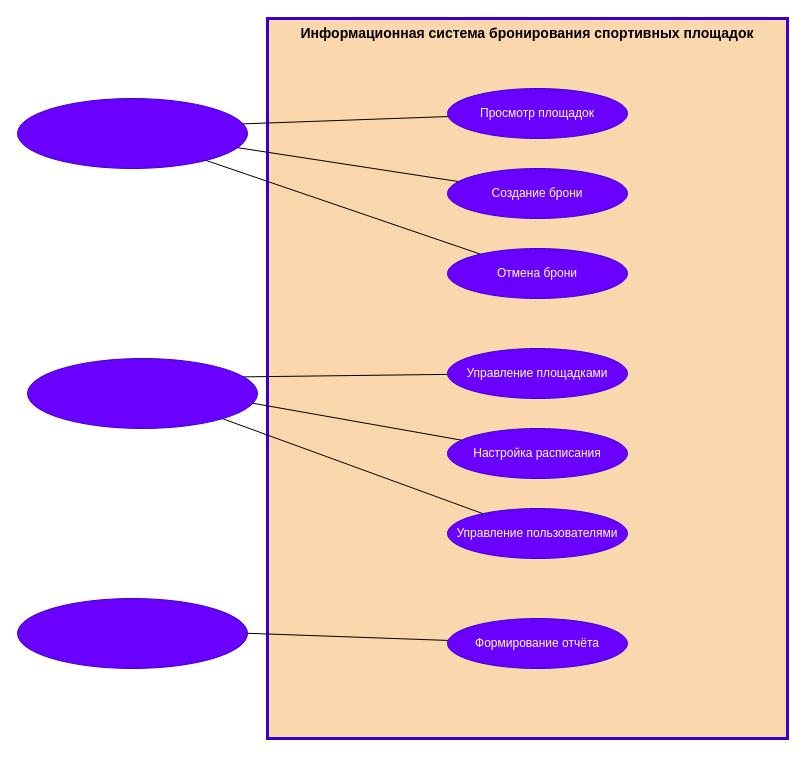
Image size: 806x757. Some labels were removed from this diagram. Each missing label, with the centre of its shape:
АДМИНИСТРАТОР: (x=142, y=393)
МЕНЕДЖЕР: (x=132, y=633)
ПОЛЬЗОВАТЕЛЬ: (x=132, y=133)
